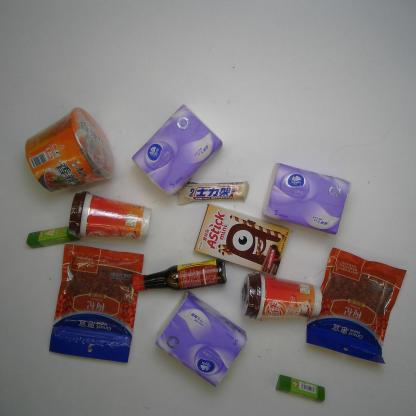Chocolate: (176, 180, 252, 206)
Dessert: (193, 202, 292, 277)
Dried Fruit: (306, 244, 408, 366), (48, 242, 146, 364)
Instant Drink: (65, 191, 154, 241), (238, 271, 324, 321)
Instant Noodles: (23, 105, 116, 194)
Seasoner: (130, 258, 228, 293)
Stationery: (273, 372, 328, 404), (24, 226, 80, 250)
Tissue: (152, 288, 250, 390), (130, 103, 225, 197), (261, 162, 353, 236)
